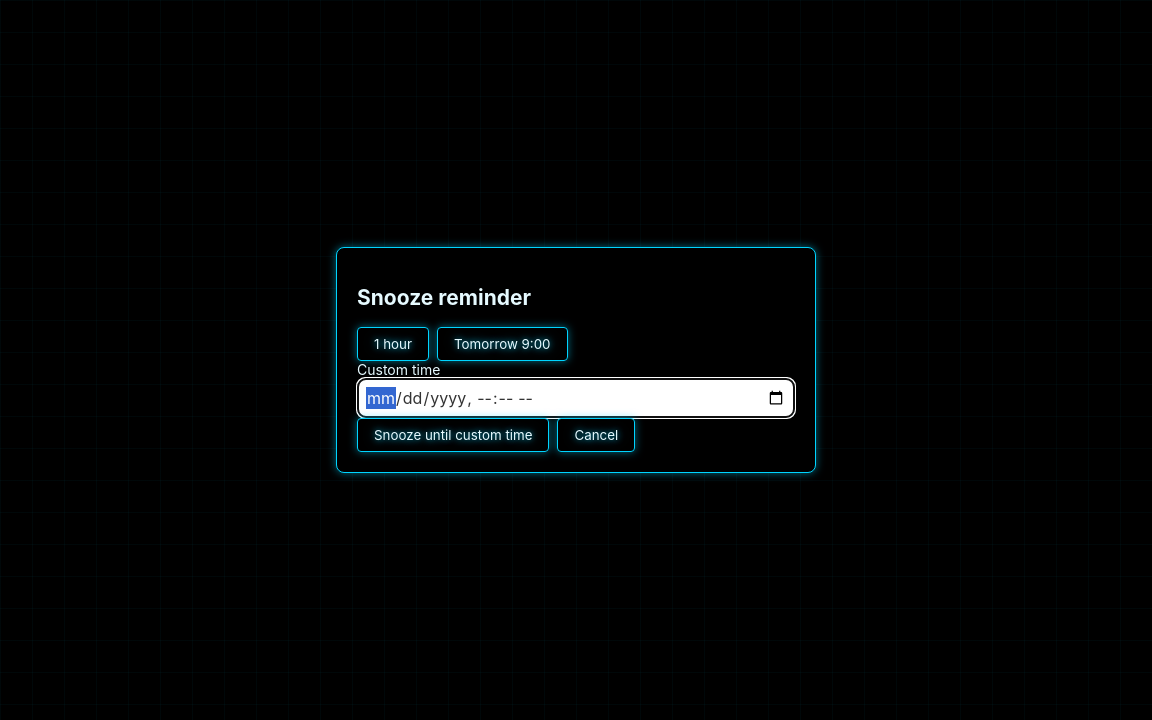
Test case: SnoozeDialog › a custom time in the past is refused with a message
Type "2026-10-22T09:00" into the field labelled "Custom time".
click(576, 398); type("2026-10-22T09:00")  # box [357,378,795,418]
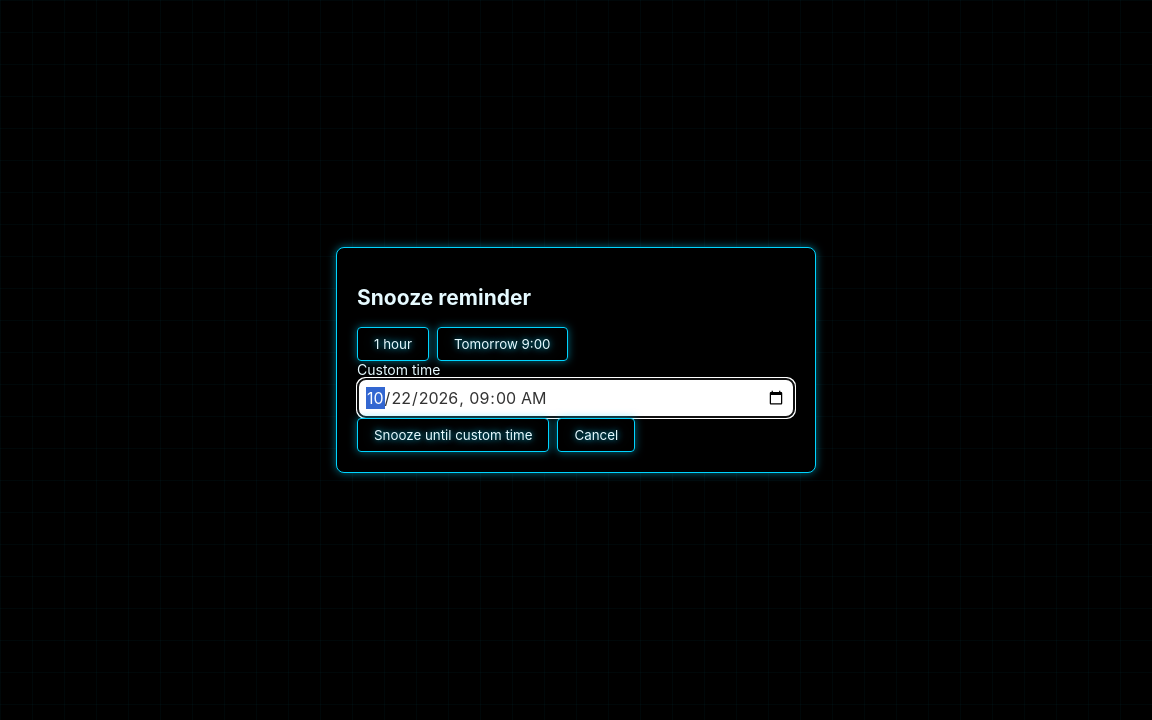
Click the button "Snooze until custom time".
click(453, 435)  # box [357,418,549,452]
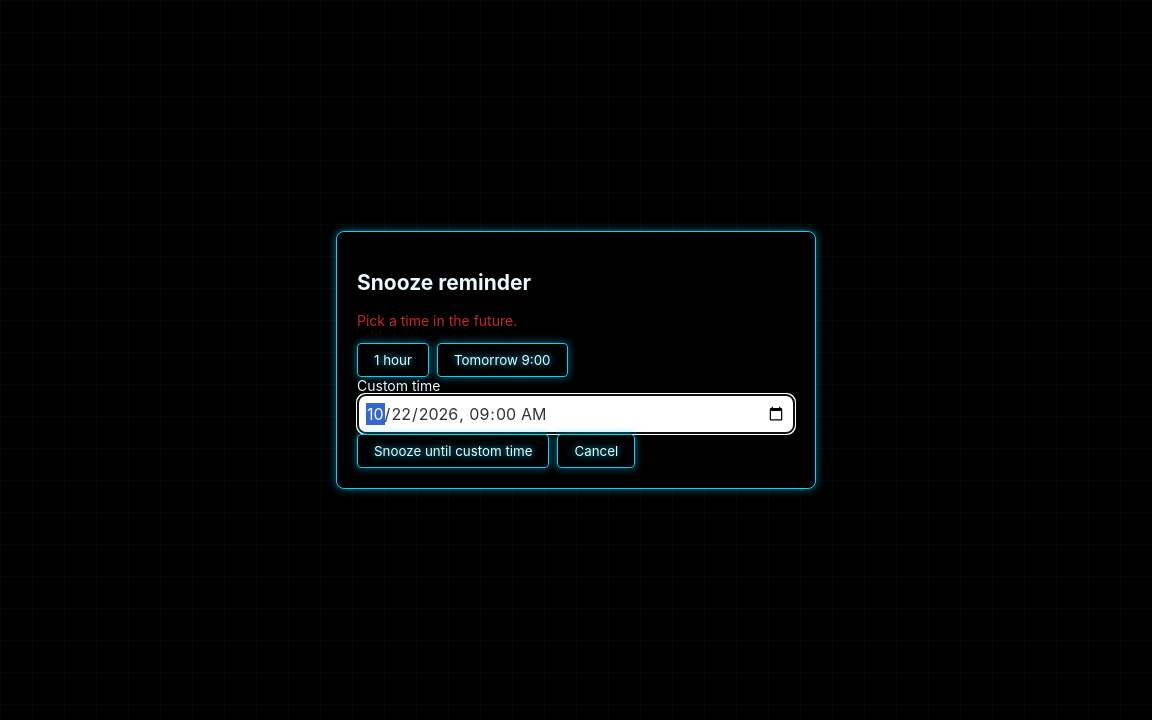
Check: the message reads "Pick a time in the future.", box [357,312,517,329]
